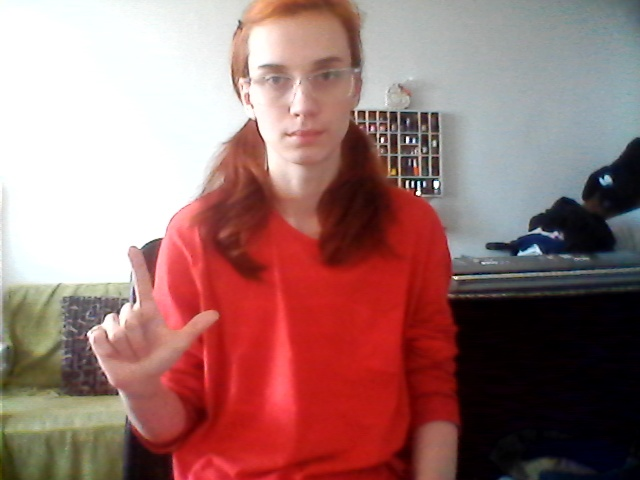l: (81, 244, 223, 386)
